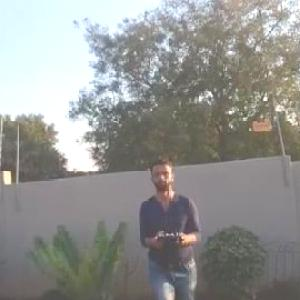follow: (133, 141, 207, 299)
